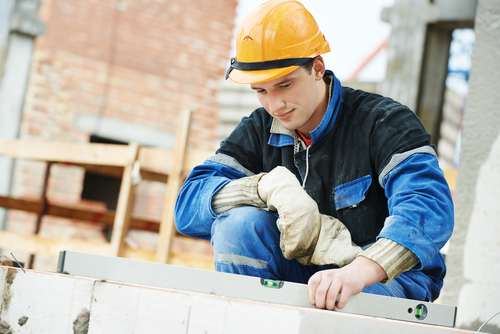casco: (225, 1, 332, 85)
